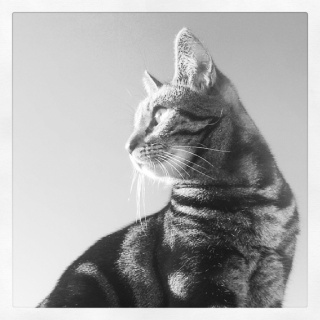Cat: (33, 25, 300, 306)
